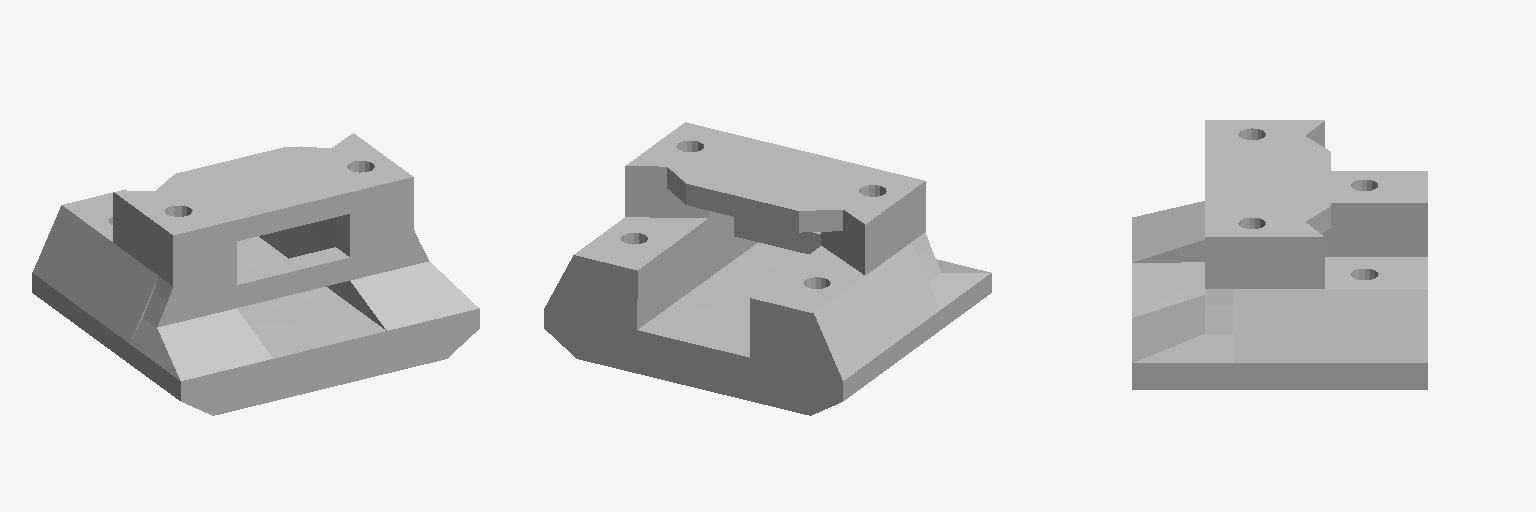
The model's file is controller_poti_holder.obj.
The picture shows the model from 3 angles: view 1: azimuth 30°, elevation 25°; view 2: azimuth 150°, elevation 25°; view 3: azimuth 270°, elevation 25°; orthographic projection.
Parts seen in each view (by area): view 1: Cube.024_Cube.020; view 2: Cube.024_Cube.020; view 3: Cube.024_Cube.020.
Part boxes in pixels (left/top/right/bottom): Cube.024_Cube.020: left=32, top=133, right=479, bottom=415; Cube.024_Cube.020: left=544, top=122, right=991, bottom=415; Cube.024_Cube.020: left=1132, top=120, right=1427, bottom=389.
Bounding box in the file's own units: 27.04 × 13.35 × 23.27.